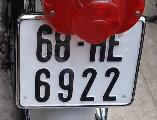2: (102, 66, 121, 102), (79, 68, 97, 104)
6: (34, 20, 53, 63), (31, 66, 50, 104)
8: (53, 25, 70, 65)
9: (56, 67, 75, 103)
E: (107, 23, 124, 61)
H: (89, 23, 107, 64)
